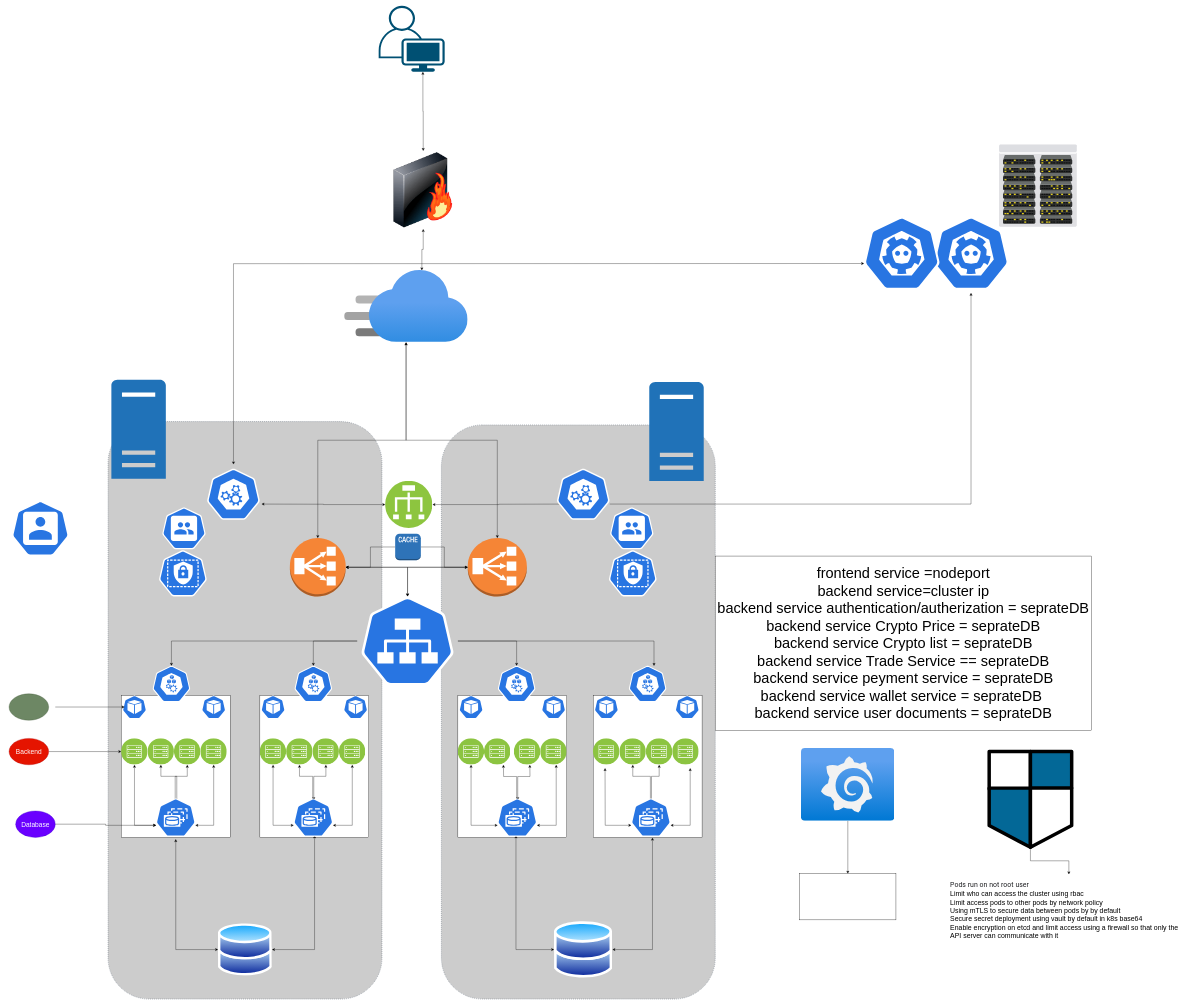
This 1194x1005 diagram has some shape labels left out. The centre of each missing label's shape, as x and y in pixels:
"Front Pods" goes at point 29,706.
"Prometheus Loki for Logs Opentelementry" goes at point 847,896.
